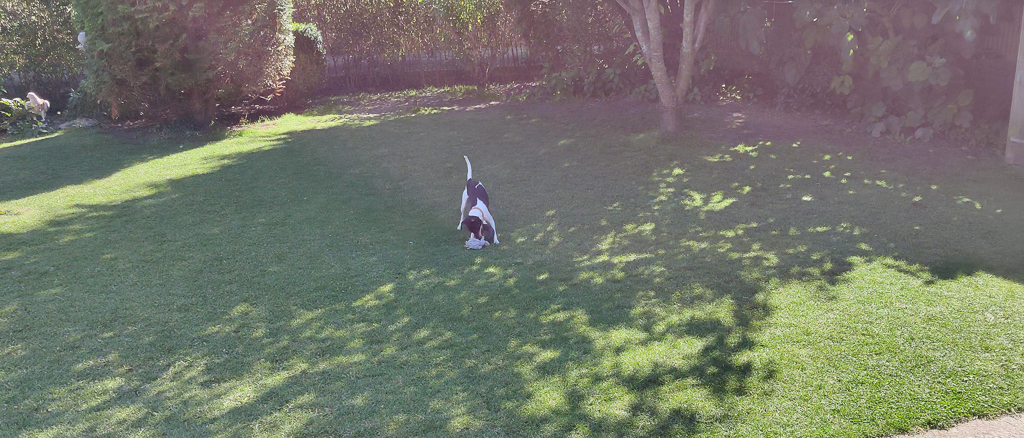Dog: (450, 149, 508, 256)
Eagle: (23, 89, 52, 124)
